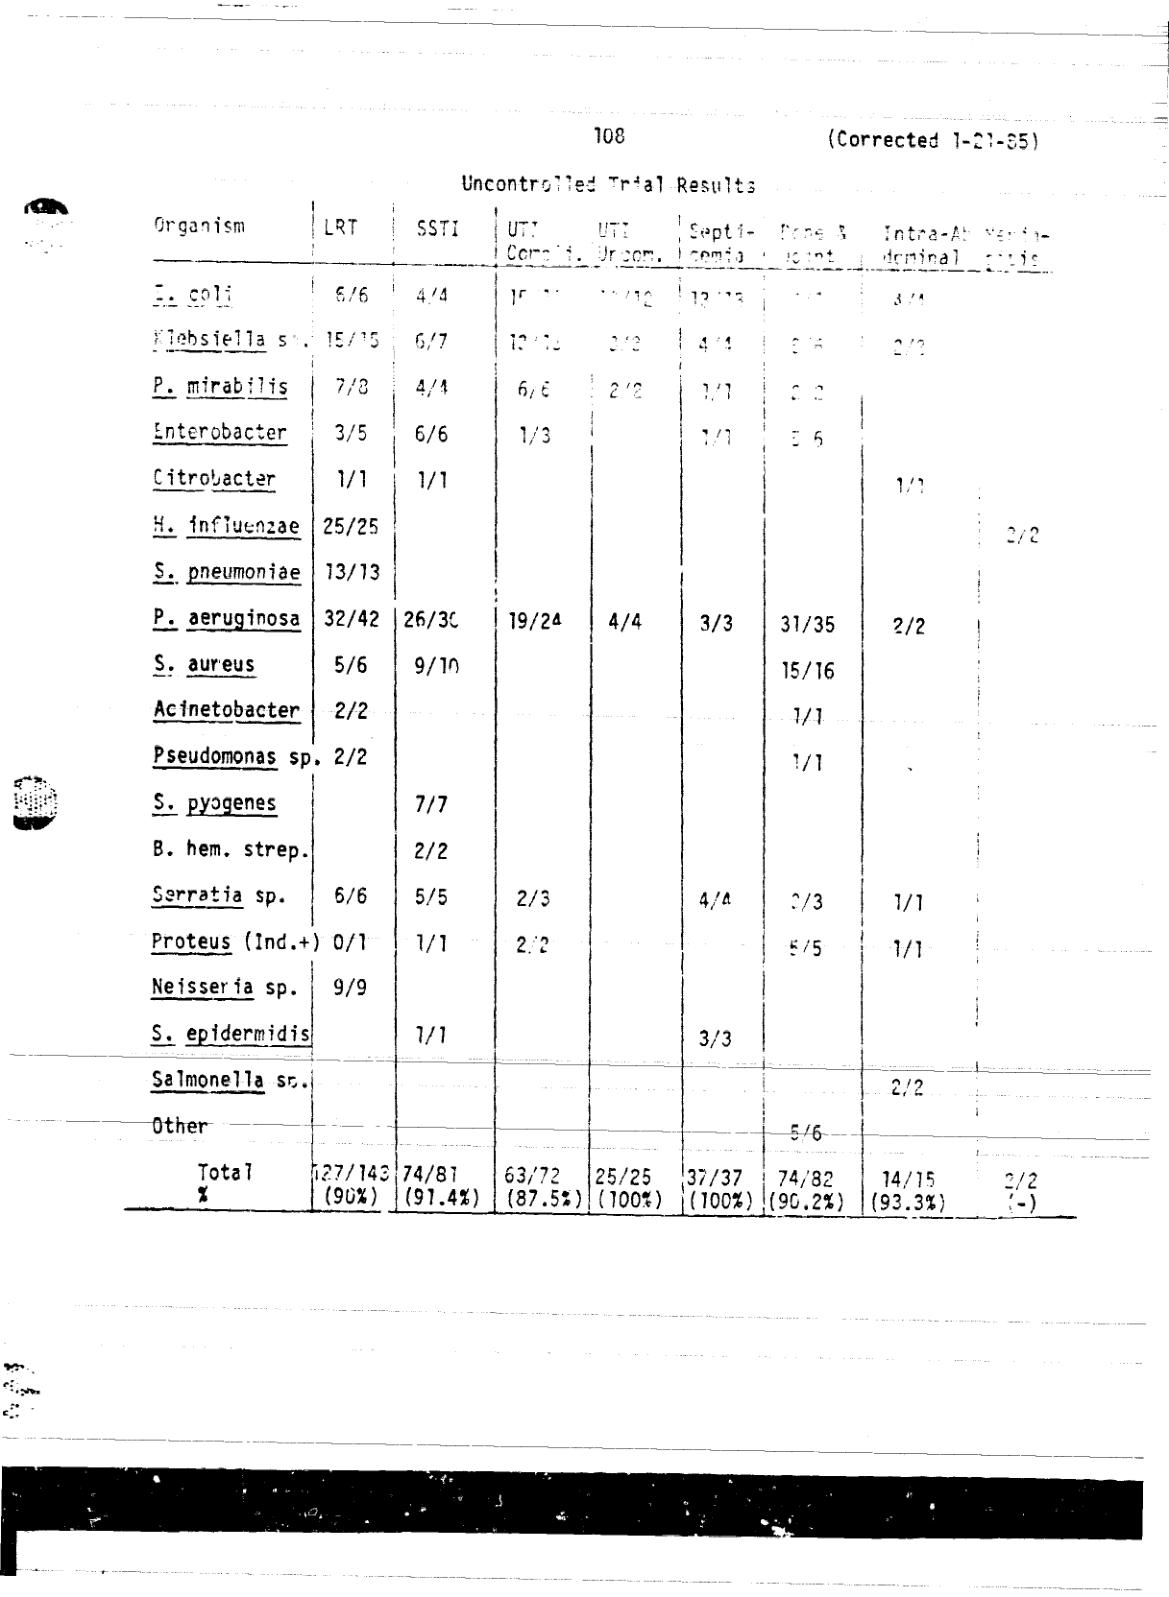partial_lined: (129, 202, 1076, 1223)
